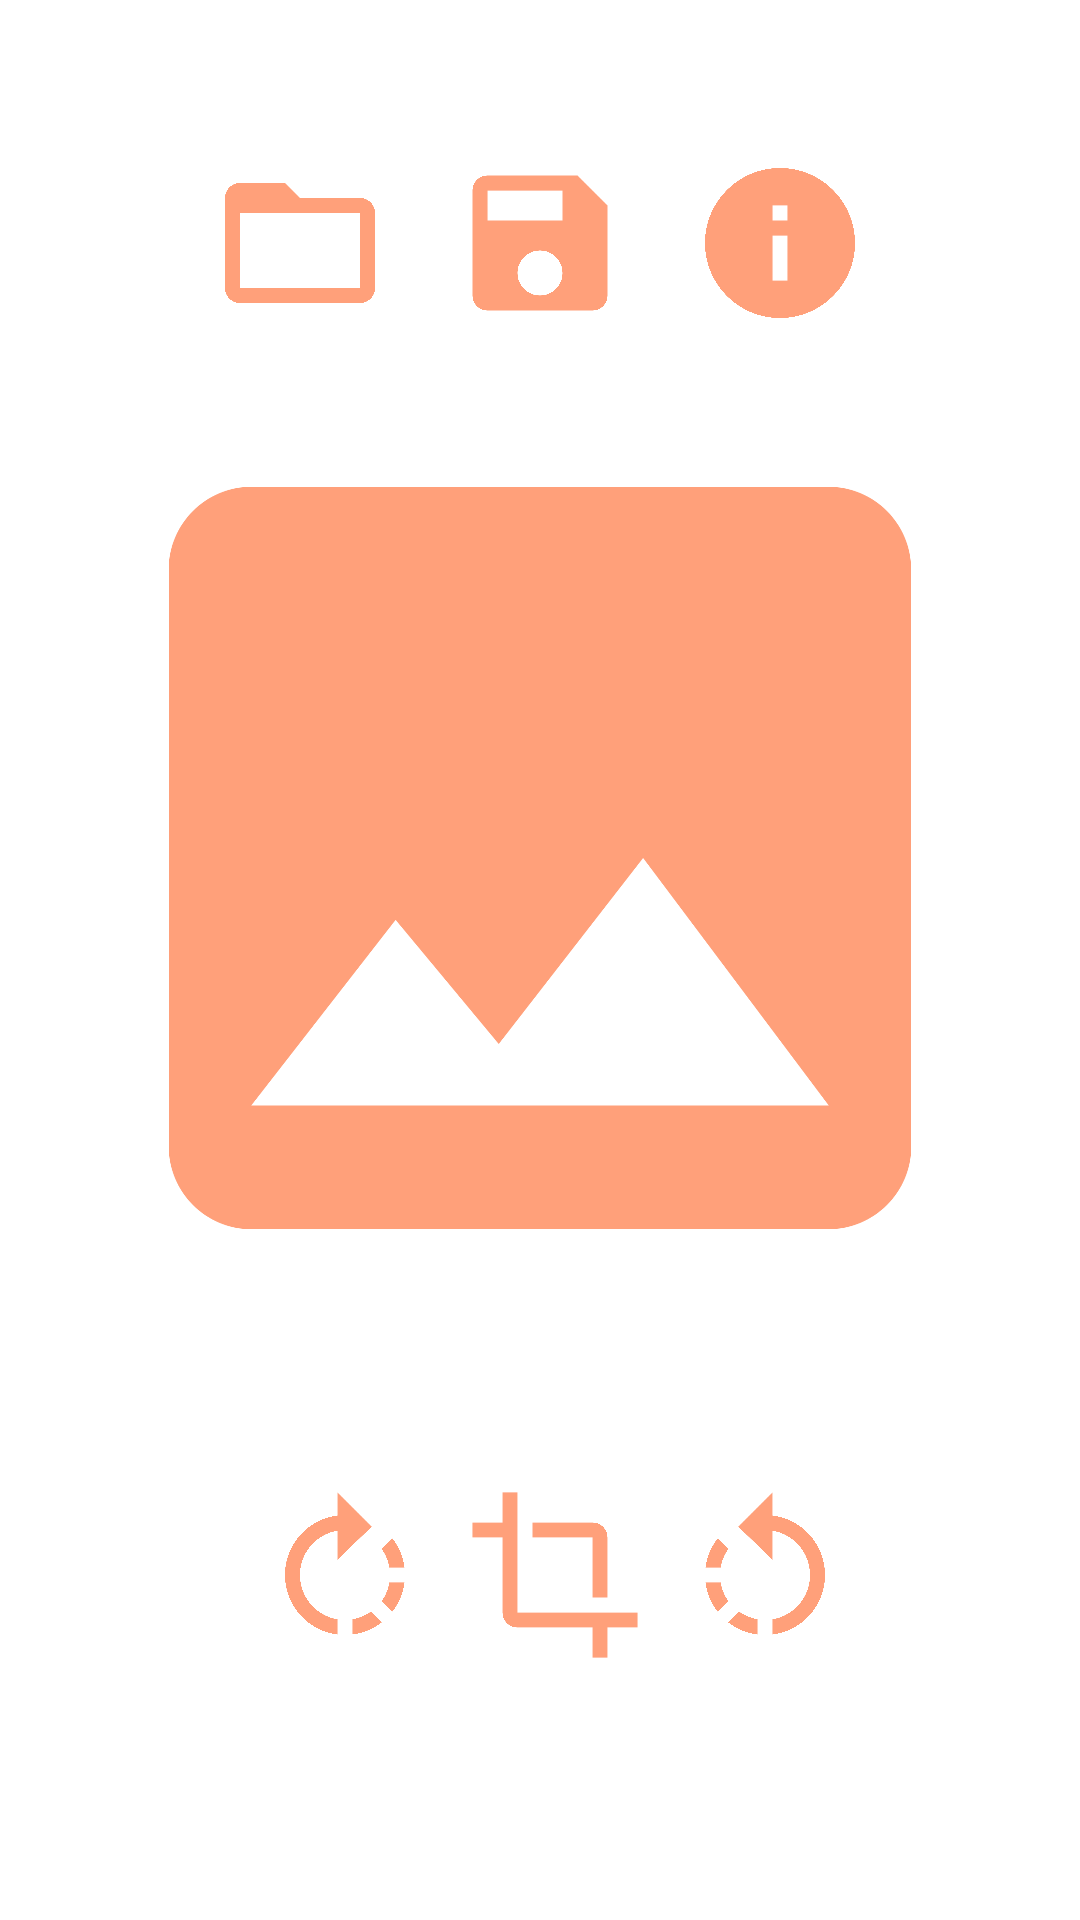

Named icons in this screenshot (1080px x 1920px) and their centers, [x,y]:
crop: [555,1575]
folder open: [300,243]
info: [780,243]
rotate left: [765,1564]
rotate right: [345,1564]
save: [540,243]
